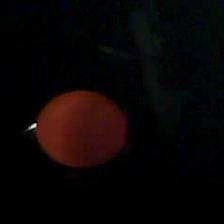infertile: (34, 89, 126, 168)
